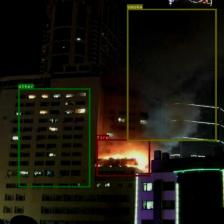fire: (96, 139, 150, 176)
smoke: (126, 8, 216, 140)
